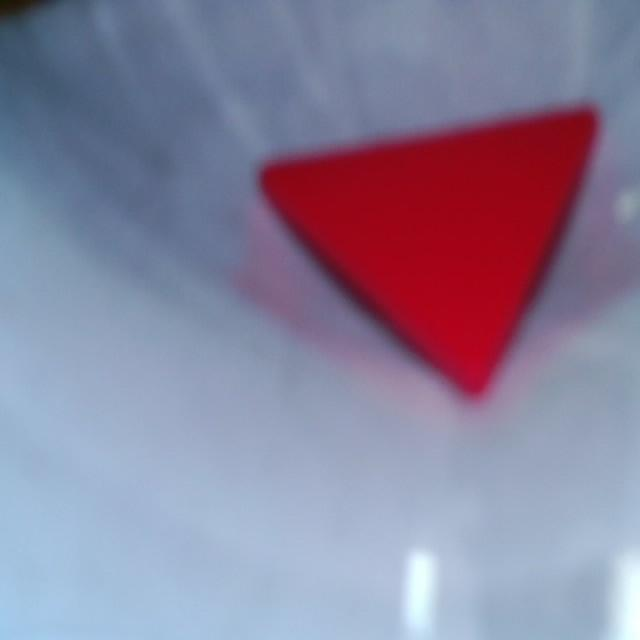triangle: (261, 111, 595, 393)
